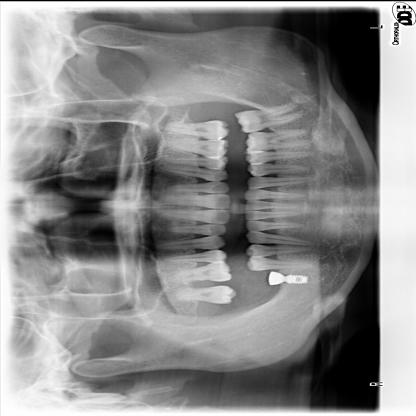Bicon: (267, 270, 311, 286)
